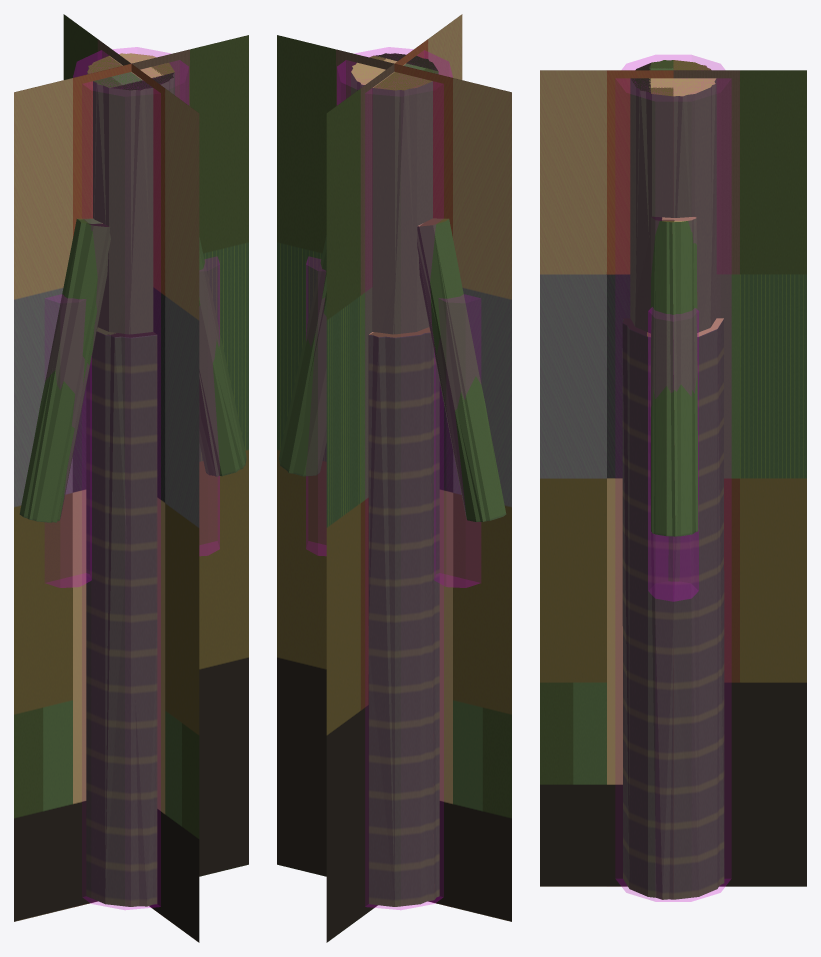
The model's file is saguaro_armed.dae.
The picture shows the model from 3 angles, left to right: view 1: azimuth 30°, elevation 25°; view 2: azimuth 150°, elevation 25°; view 3: azimuth 270°, elevation 25°; orthographic projection.
Parts seen in each view (by area): view 1: saguaro_armed_a50, saguaro_armed_a800, Colmesh_trunk-1, saguaro_armed_a200, Colmesh_arm0-1, Colmesh_arm1-1; view 2: saguaro_armed_a50, saguaro_armed_a800, Colmesh_trunk-1, saguaro_armed_a200, Colmesh_arm0-1, Colmesh_arm1-1; view 3: saguaro_armed_a50, Colmesh_trunk-1, saguaro_armed_a800, saguaro_armed_a200, Colmesh_arm1-1.
Boxes of the visible parts, x1,y1,x2,y2 form: saguaro_armed_a50: (14, 14, 248, 942); saguaro_armed_a800: (19, 53, 246, 906); Colmesh_trunk-1: (73, 47, 188, 909); saguaro_armed_a200: (27, 53, 243, 906); Colmesh_arm0-1: (45, 295, 91, 587); Colmesh_arm1-1: (199, 257, 219, 555); saguaro_armed_a50: (277, 14, 511, 942); saguaro_armed_a800: (279, 53, 506, 906); Colmesh_trunk-1: (337, 47, 452, 909); saguaro_armed_a200: (288, 53, 502, 905); Colmesh_arm0-1: (434, 295, 480, 587); Colmesh_arm1-1: (306, 257, 326, 555); saguaro_armed_a50: (540, 70, 806, 886); Colmesh_trunk-1: (616, 55, 730, 901); saguaro_armed_a800: (623, 60, 723, 899); saguaro_armed_a200: (622, 60, 724, 899); Colmesh_arm1-1: (648, 307, 698, 601).
Size of the model in its own units: 1.45 by 1.45 by 4.9.
Materials: 2 (1 with a texture image).
